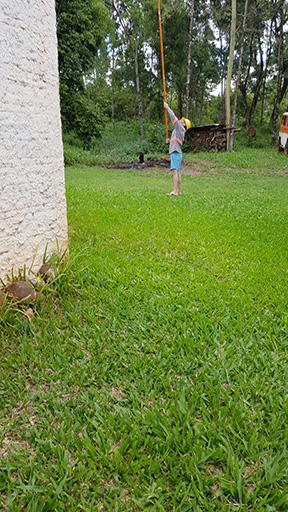Vara_Manobra: (156, 1, 170, 144)
